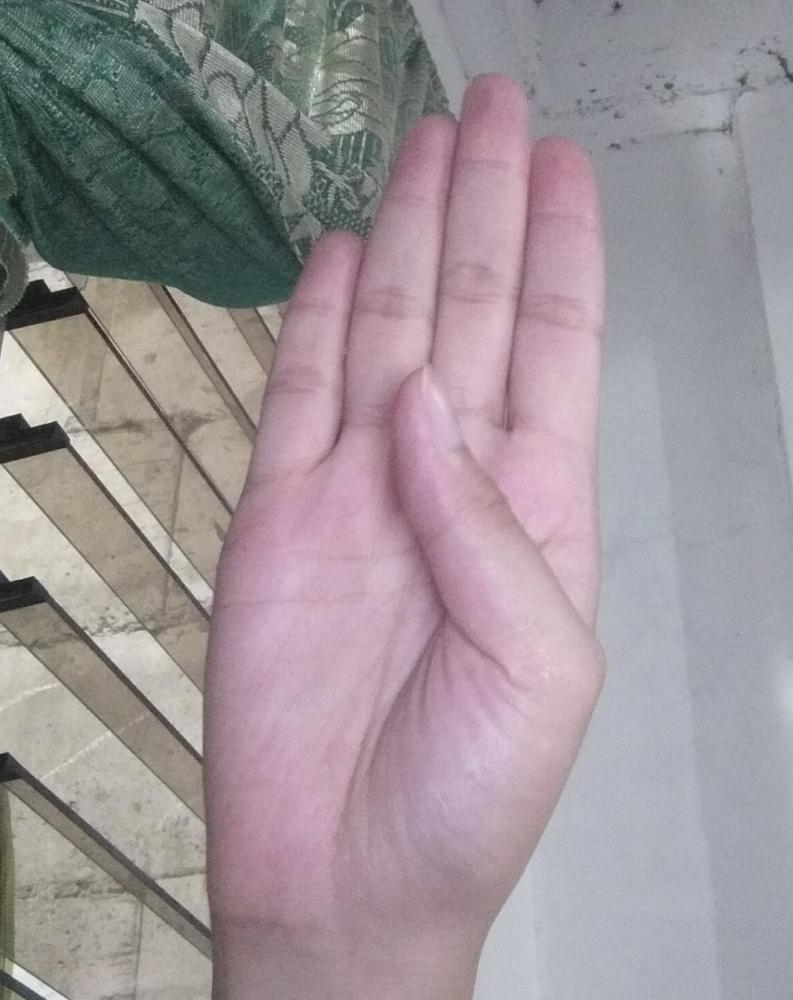b: (200, 71, 609, 940)
